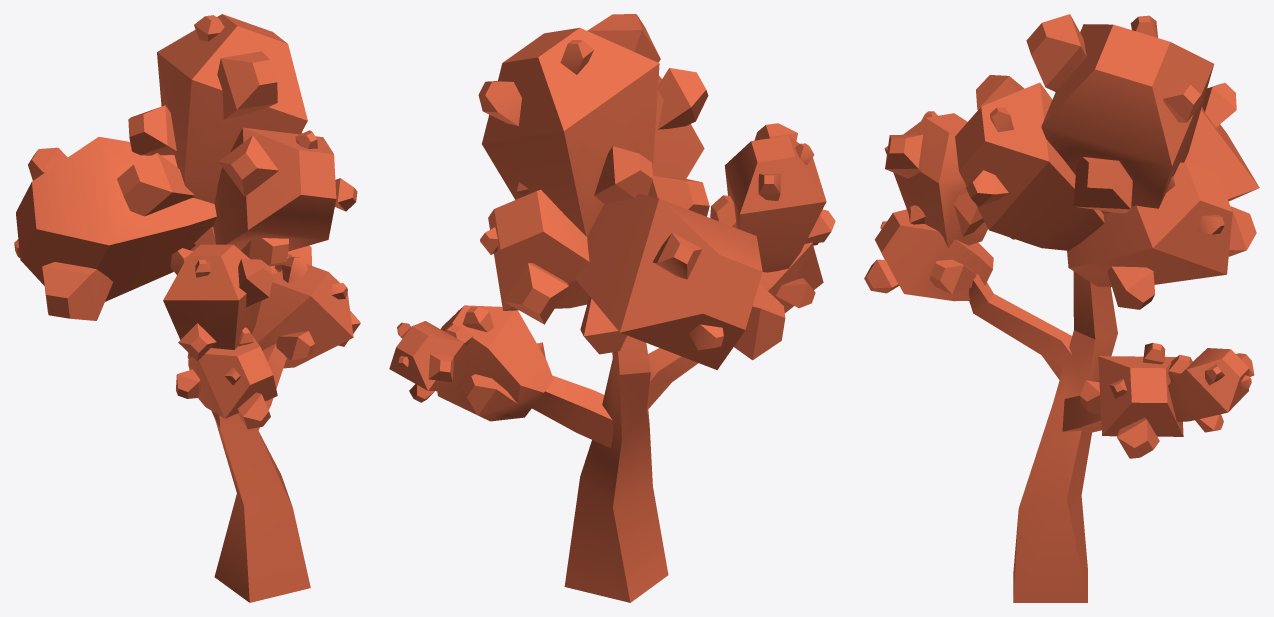
The model's file is tree.glb.
3 renders of one model, left to right at view 1: azimuth 30°, elevation 25°; view 2: azimuth 150°, elevation 25°; view 3: azimuth 270°, elevation 25°, orthographic. The views are drawn at different scales.
Visible parts, largest first — view 1: Tree; view 2: Tree; view 3: Tree.
Boxes of the visible parts, bbox=[...] form: Tree: bbox=[14, 14, 360, 602]; Tree: bbox=[389, 14, 835, 602]; Tree: bbox=[864, 14, 1259, 602].
Bounding box in the file's own units: 1059 × 1673 × 1060.
